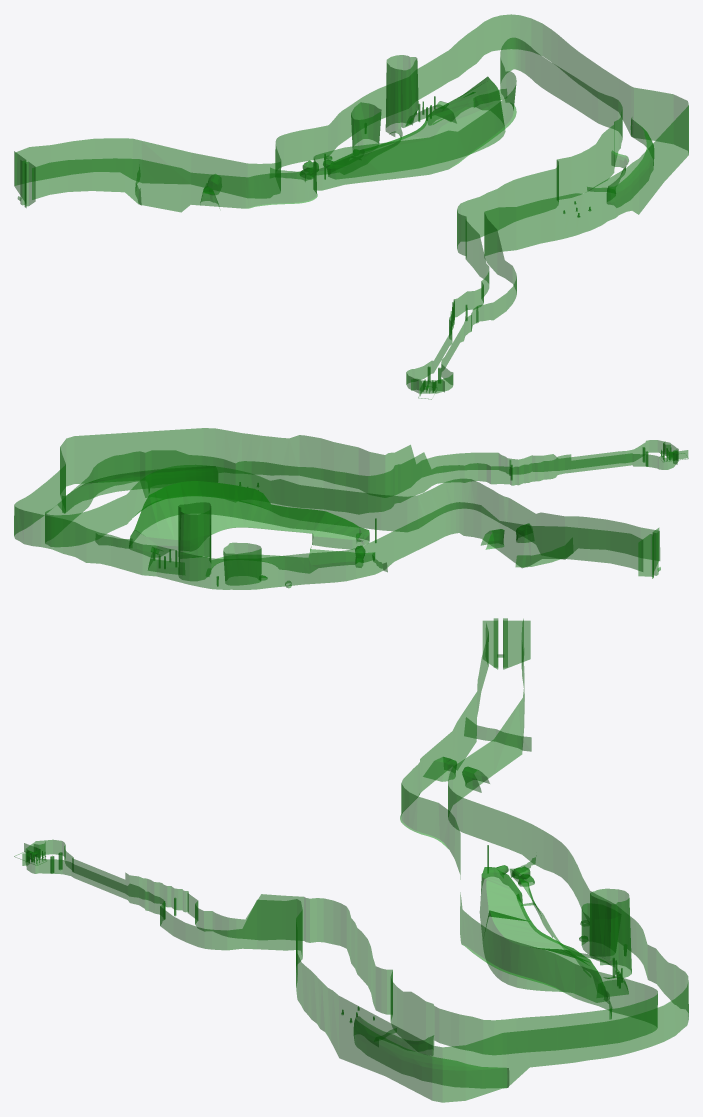
File: wall.obj
3 renders of one model, top to bottom at view 1: azimuth 30°, elevation 25°; view 2: azimuth 150°, elevation 25°; view 3: azimuth 270°, elevation 25°, orthographic. The views are drawn at different scales.
Bounding box in the file's own units: 939 × 190 × 771.
